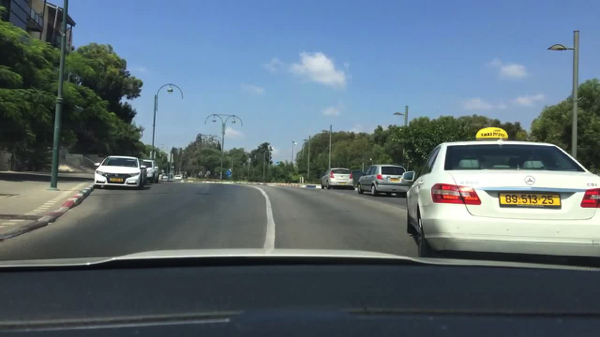car: (405, 126, 599, 267), (93, 156, 147, 190), (356, 164, 410, 197), (319, 167, 354, 190), (144, 159, 159, 181), (161, 174, 174, 181), (173, 175, 183, 181)
traffic sign: (226, 169, 232, 176), (206, 171, 211, 177), (198, 171, 203, 176)
